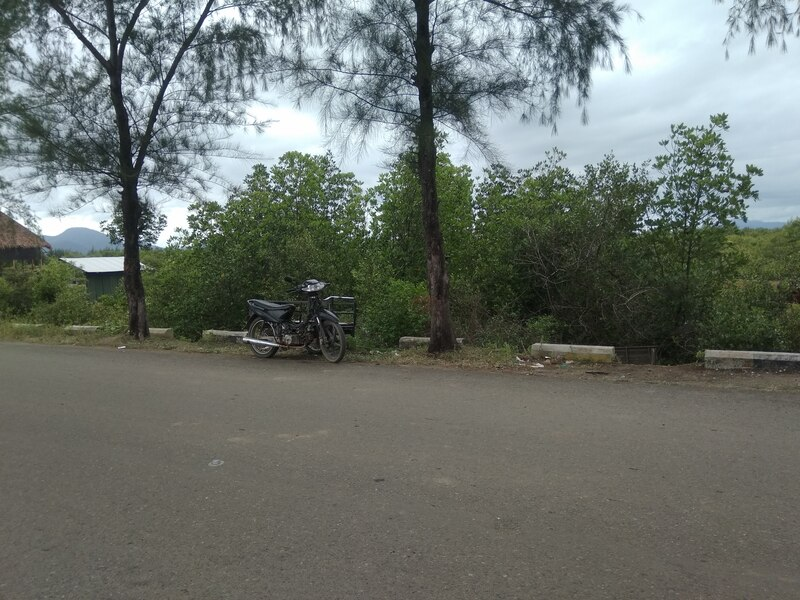becak barang: (237, 265, 366, 369)
